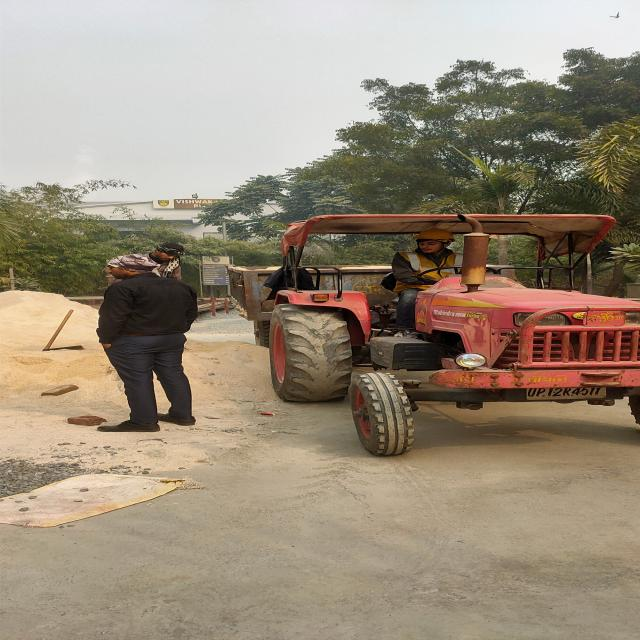safe: (391, 228, 464, 290)
unsafe: (94, 255, 200, 432)
